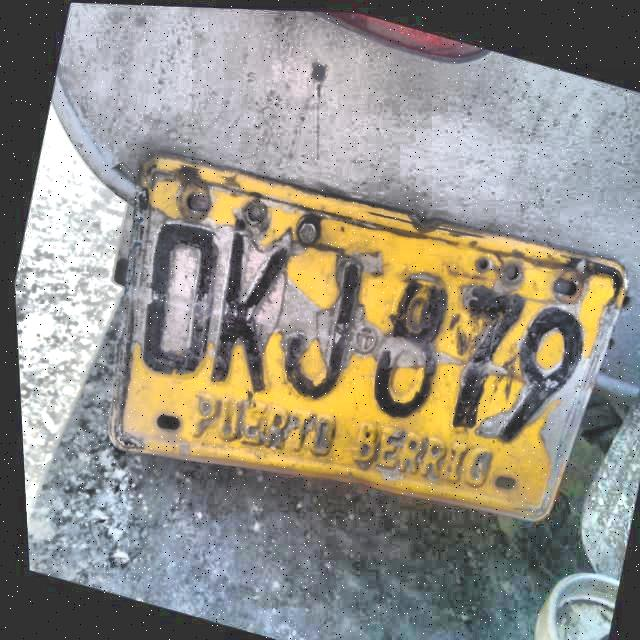7: (434, 275, 534, 439)
8: (360, 265, 456, 428)
9: (485, 295, 597, 452)
J: (276, 257, 367, 411)
K: (204, 227, 302, 399)
O: (135, 217, 228, 385)
